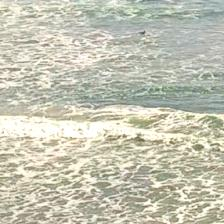surfer: (138, 30, 147, 35)
